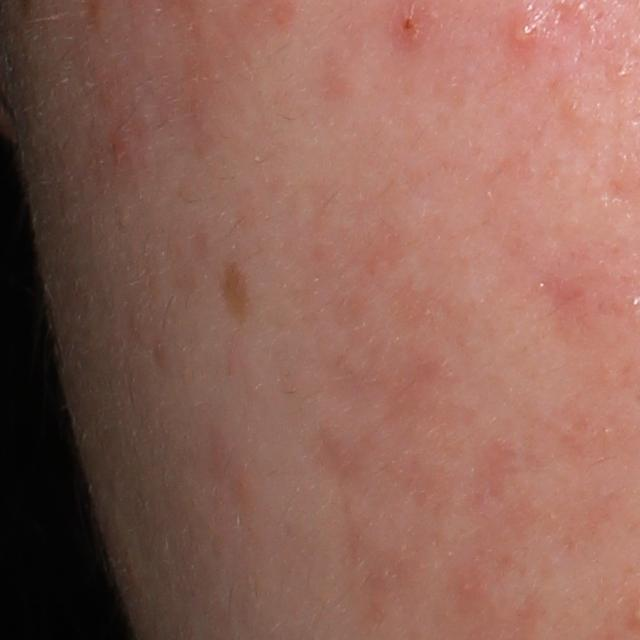melasma: (222, 259, 253, 327)
papule: (391, 3, 429, 39)
pustule: (503, 13, 543, 54)
